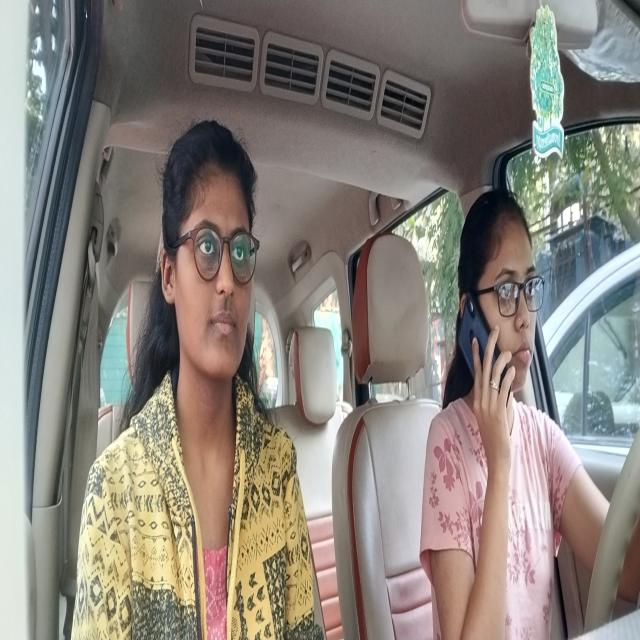mobile: (460, 293, 510, 418)
person: (156, 121, 261, 396), (457, 183, 539, 395)
